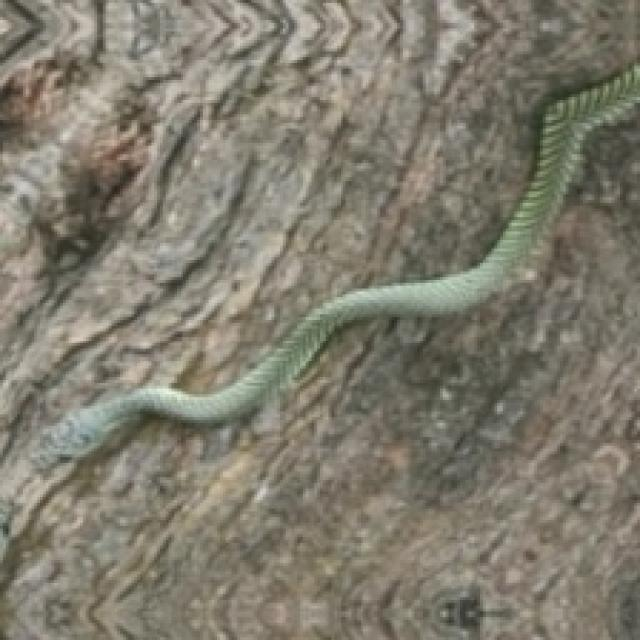paradise tree snake: (34, 64, 640, 468)
